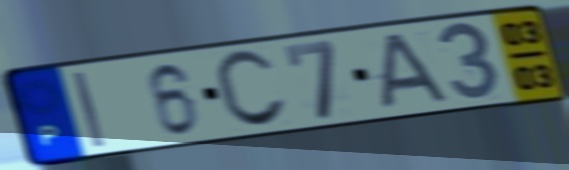3: (435, 17, 504, 106)
6: (146, 61, 203, 137)
7: (280, 36, 341, 123)
A: (374, 30, 455, 112)
C: (211, 47, 291, 132)
I: (69, 69, 109, 151)
